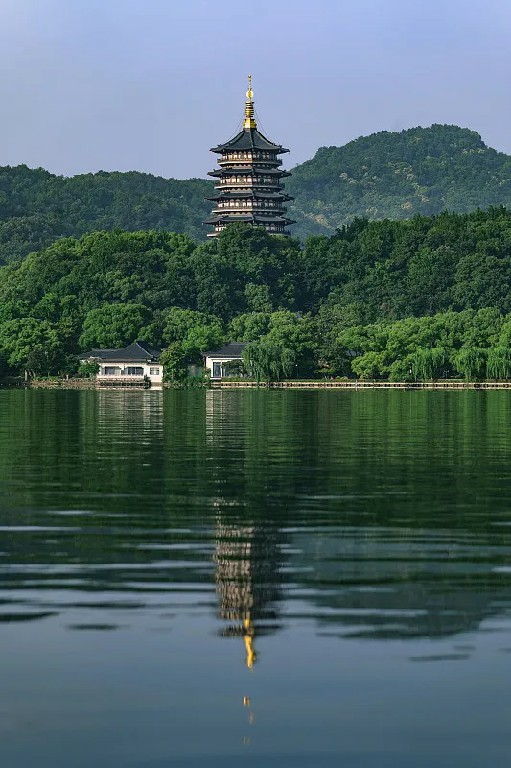Leifeng: (201, 74, 301, 244)
